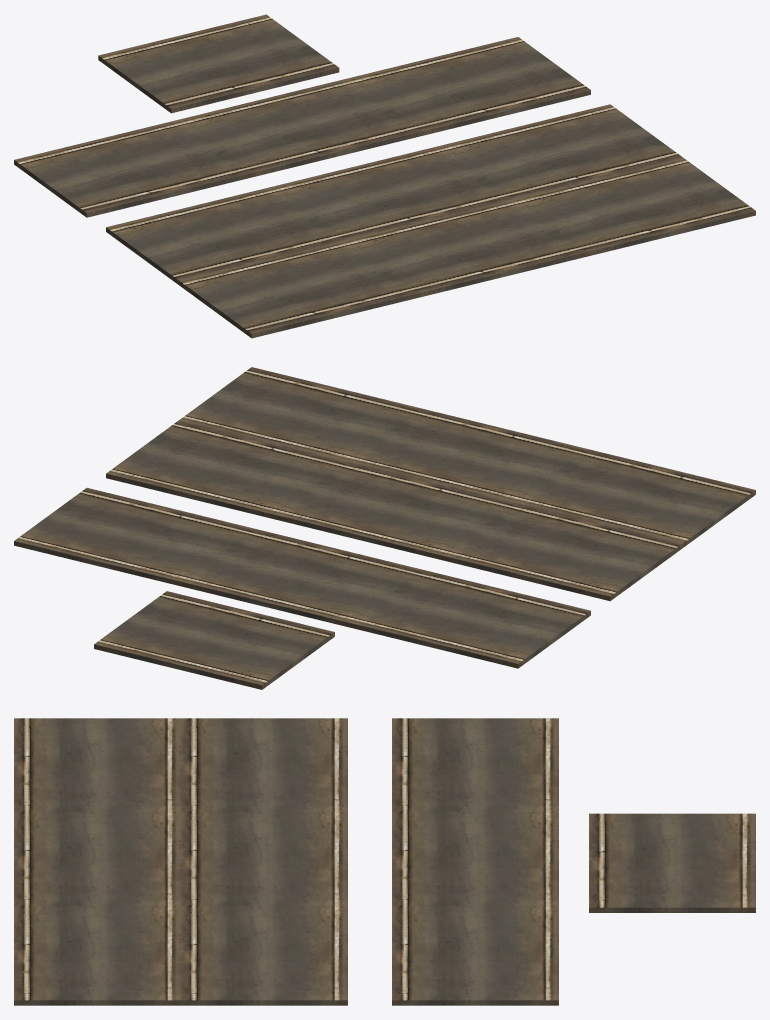
The model's file is road_free.glb.
3 renders of one model, top to bottom at view 1: azimuth 30°, elevation 25°; view 2: azimuth 150°, elevation 25°; view 3: azimuth 270°, elevation 25°, orthographic. The views are drawn at different scales.
Visible parts, largest first — view 1: Plane.002, Plane.001, Plane; view 2: Plane.002, Plane.001, Plane; view 3: Plane.002, Plane.001, Plane.
Boxes of the visible parts, x1=… form: Plane.002: x1=106, y1=104, x2=755, y2=338; Plane.001: x1=14, y1=37, x2=590, y2=217; Plane: x1=98, y1=14, x2=339, y2=113; Plane.002: x1=106, y1=367, x2=755, y2=601; Plane.001: x1=14, y1=488, x2=590, y2=668; Plane: x1=94, y1=591, x2=334, y2=689; Plane.002: x1=14, y1=718, x2=347, y2=1005; Plane.001: x1=392, y1=718, x2=558, y2=1005; Plane: x1=589, y1=813, x2=755, y2=912.
Size of the model in its own units: 12.57 by 0.1102 by 13.98.
Materials: 1 (1 with a texture image).
